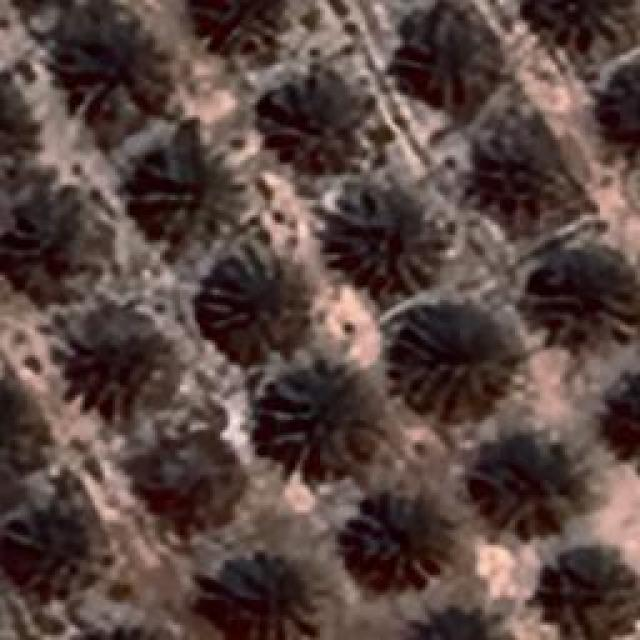PalmTree: (318, 185, 448, 293), (388, 318, 508, 418), (259, 374, 379, 474), (525, 237, 635, 345), (0, 198, 110, 304), (59, 18, 172, 120), (258, 75, 372, 173), (0, 488, 105, 592), (126, 432, 242, 526), (68, 318, 176, 418), (200, 250, 310, 348), (134, 148, 248, 242), (195, 555, 318, 640), (474, 438, 586, 530), (530, 555, 640, 640), (406, 11, 496, 111), (454, 108, 552, 196), (341, 504, 451, 582), (524, 0, 636, 58), (593, 366, 638, 486), (0, 371, 45, 491), (0, 71, 45, 180), (192, 0, 285, 52), (592, 58, 640, 156), (399, 600, 516, 640), (69, 617, 185, 640)
